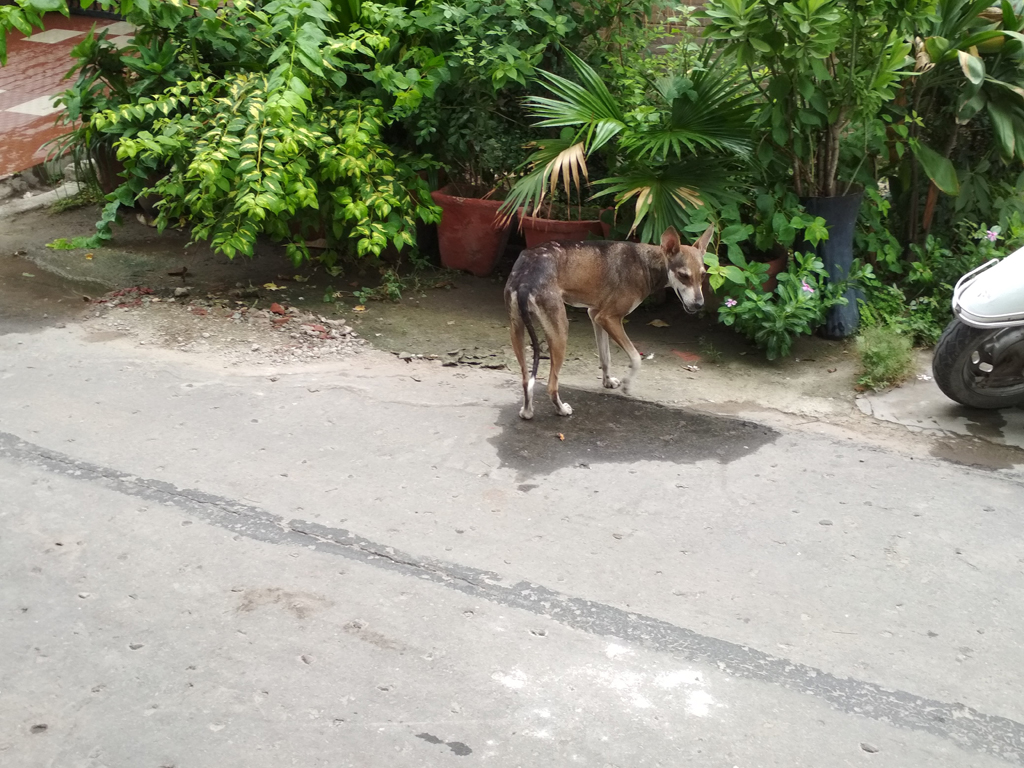dog: (503, 223, 719, 422)
